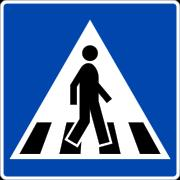Pedestrian Crossing: (10, 14, 172, 165)
